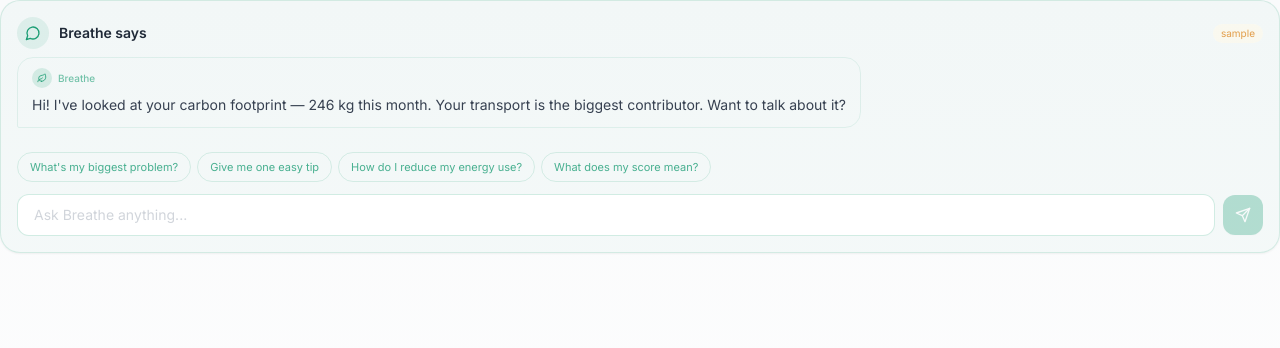
Test: ChatBot Component › HTML tags are stripped from user input (sanitisation)
The width and height of the screenshot is (1280, 348).
In the field with placeholder "Ask Breathe anything...": (616, 215) x1=17 y1=194 x2=1215 y2=236, type "<script>alert(1)</script>clean text"
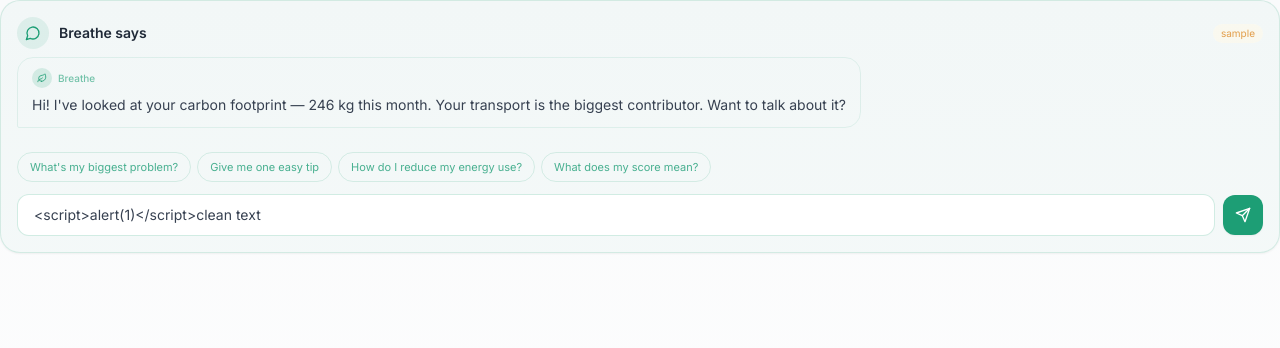
Submit the form with placeholder "Ask Breathe anything", box x1=17 y1=194 x2=1263 y2=236
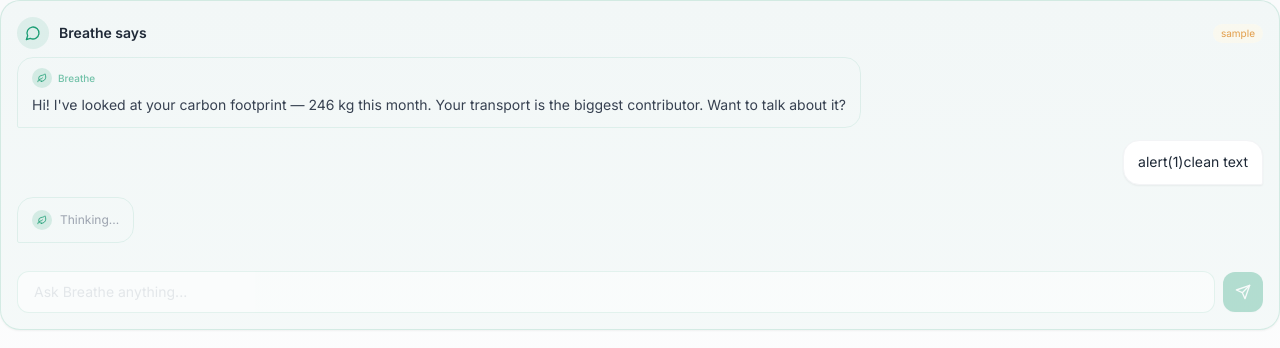
Expected: the text "clean text" is shown, x1=1138 y1=153 x2=1248 y2=170
